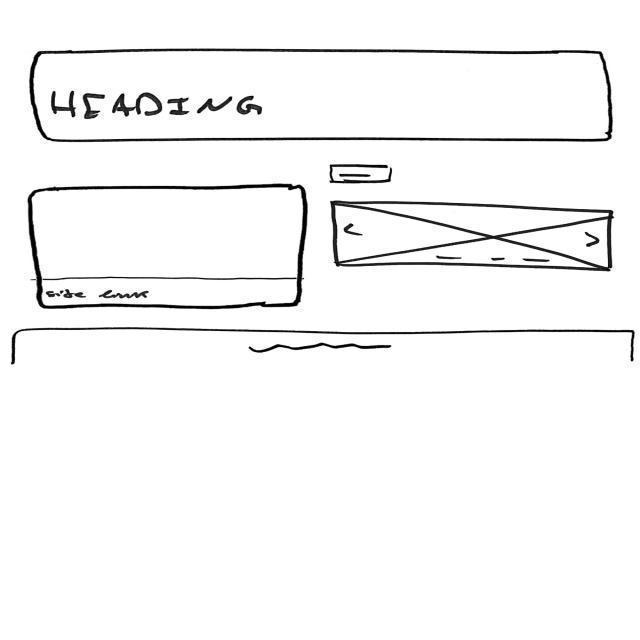container: (29, 49, 619, 145), (28, 183, 320, 311)
icon-button: (331, 163, 395, 186)
image: (329, 197, 617, 274)
label: (51, 91, 265, 120), (46, 288, 151, 303)
text: (249, 343, 395, 358)
